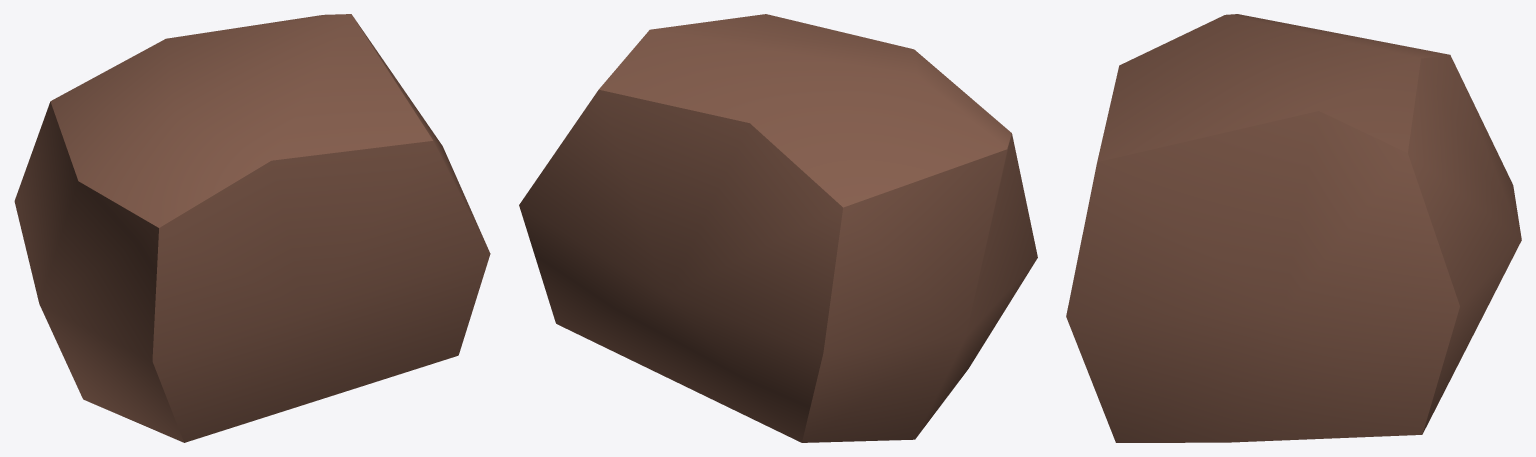
File: cozy_lake_stone2_002.glb
3 renders of one model, left to right at view 1: azimuth 30°, elevation 25°; view 2: azimuth 150°, elevation 25°; view 3: azimuth 270°, elevation 25°, orthographic. The views are drawn at different scales.
Parts seen in each view (by area): view 1: Stone2_002; view 2: Stone2_002; view 3: Stone2_002.
Boxes of the visible parts, left/top/right/bottom form: Stone2_002: left=14, top=14, right=490, bottom=442; Stone2_002: left=519, top=14, right=1037, bottom=442; Stone2_002: left=1066, top=14, right=1521, bottom=442.
Size of the model in its own units: 36.14 by 28.79 by 31.86.
